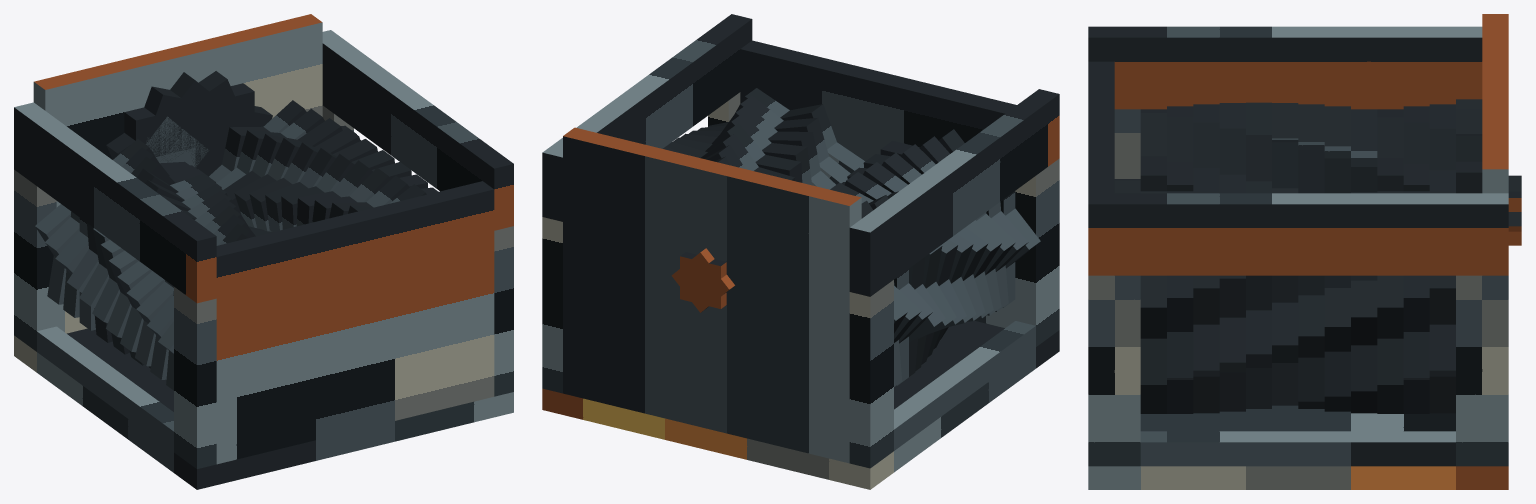
File: grindstone.obj
The picture shows the model from 3 angles, left to right: view 1: azimuth 30°, elevation 25°; view 2: azimuth 150°, elevation 25°; view 3: azimuth 270°, elevation 25°; orthographic projection. The views are drawn at different scales.
Visible parts, largest first — view 1: ModelGrinder_Shape6a, ModelGrinder_Shape6, ModelGrinder_Shape3, ModelGrinder_Shape3A, ModelGrinder_Shape1, ModelGrinder_Shape4c, ModelGrinder_Shape4a, ModelGrinder_Shape21111111, ModelGrinder_Shape5a, ModelGrinder_Shape2111, ModelGrinder_Shape4b, ModelGrinder_Shape2K (+41 smaller); view 2: ModelGrinder_Shape6, ModelGrinder_Shape3, ModelGrinder_Shape6a, ModelGrinder_Shape1, ModelGrinder_Shape3A, ModelGrinder_Shape4a, ModelGrinder_Shape4c, ModelGrinder_Shape5a, ModelGrinder_Shape4, ModelGrinder_Shape21111, ModelGrinder_Shape23, ModelGrinder_Shape2q (+28 smaller); view 3: ModelGrinder_Shape3A, ModelGrinder_Shape3, ModelGrinder_Shape1, ModelGrinder_Shape5, ModelGrinder_Shape4, ModelGrinder_Shape4b, ModelGrinder_Shape6, ModelGrinder_Shape6a, ModelGrinder_Shape2C, ModelGrinder_Shape2S, ModelGrinder_Shape2y, ModelGrinder_Shape2T (+50 smaller).
Boxes of the visible parts, left/top/right/bottom form: ModelGrinder_Shape6a: left=216, top=181, right=494, bottom=464; ModelGrinder_Shape6: left=33, top=14, right=322, bottom=333; ModelGrinder_Shape3: left=14, top=102, right=216, bottom=303; ModelGrinder_Shape3A: left=322, top=30, right=513, bottom=230; ModelGrinder_Shape1: left=14, top=328, right=513, bottom=489; ModelGrinder_Shape4c: left=174, top=287, right=216, bottom=468; ModelGrinder_Shape4a: left=14, top=169, right=56, bottom=351; ModelGrinder_Shape21111111: left=124, top=83, right=254, bottom=175; ModelGrinder_Shape5a: left=37, top=326, right=173, bottom=451; ModelGrinder_Shape2111: left=146, top=72, right=252, bottom=176; ModelGrinder_Shape4b: left=494, top=226, right=513, bottom=396; ModelGrinder_Shape2K: left=234, top=128, right=360, bottom=227; ModelGrinder_Shape6: left=563, top=127, right=861, bottom=463; ModelGrinder_Shape3: left=849, top=89, right=1059, bottom=296; ModelGrinder_Shape6a: left=740, top=40, right=1016, bottom=327; ModelGrinder_Shape1: left=542, top=320, right=1059, bottom=489; ModelGrinder_Shape3A: left=542, top=14, right=752, bottom=221; ModelGrinder_Shape4a: left=849, top=280, right=893, bottom=468; ModelGrinder_Shape4c: left=1015, top=158, right=1059, bottom=346; ModelGrinder_Shape5a: left=894, top=321, right=1035, bottom=450; ModelGrinder_Shape4: left=542, top=217, right=562, bottom=393; ModelGrinder_Shape21111: left=680, top=252, right=726, bottom=308; ModelGrinder_Shape23: left=671, top=248, right=734, bottom=312; ModelGrinder_Shape2q: left=863, top=162, right=988, bottom=348; ModelGrinder_Shape3A: left=1088, top=193, right=1508, bottom=275; ModelGrinder_Shape3: left=1088, top=26, right=1482, bottom=109; ModelGrinder_Shape1: left=1088, top=405, right=1508, bottom=489; ModelGrinder_Shape5: left=1140, top=431, right=1455, bottom=466; ModelGrinder_Shape4: left=1456, top=275, right=1508, bottom=466; ModelGrinder_Shape4b: left=1088, top=275, right=1140, bottom=466; ModelGrinder_Shape6: left=1482, top=14, right=1508, bottom=193; ModelGrinder_Shape6a: left=1088, top=61, right=1114, bottom=193; ModelGrinder_Shape2C: left=1377, top=191, right=1403, bottom=413; ModelGrinder_Shape2S: left=1140, top=191, right=1166, bottom=413; ModelGrinder_Shape2y: left=1167, top=191, right=1193, bottom=413; ModelGrinder_Shape2T: left=1403, top=191, right=1429, bottom=413.
Bounding box in the file's own units: 1.03 × 0.8125 × 1.03.
